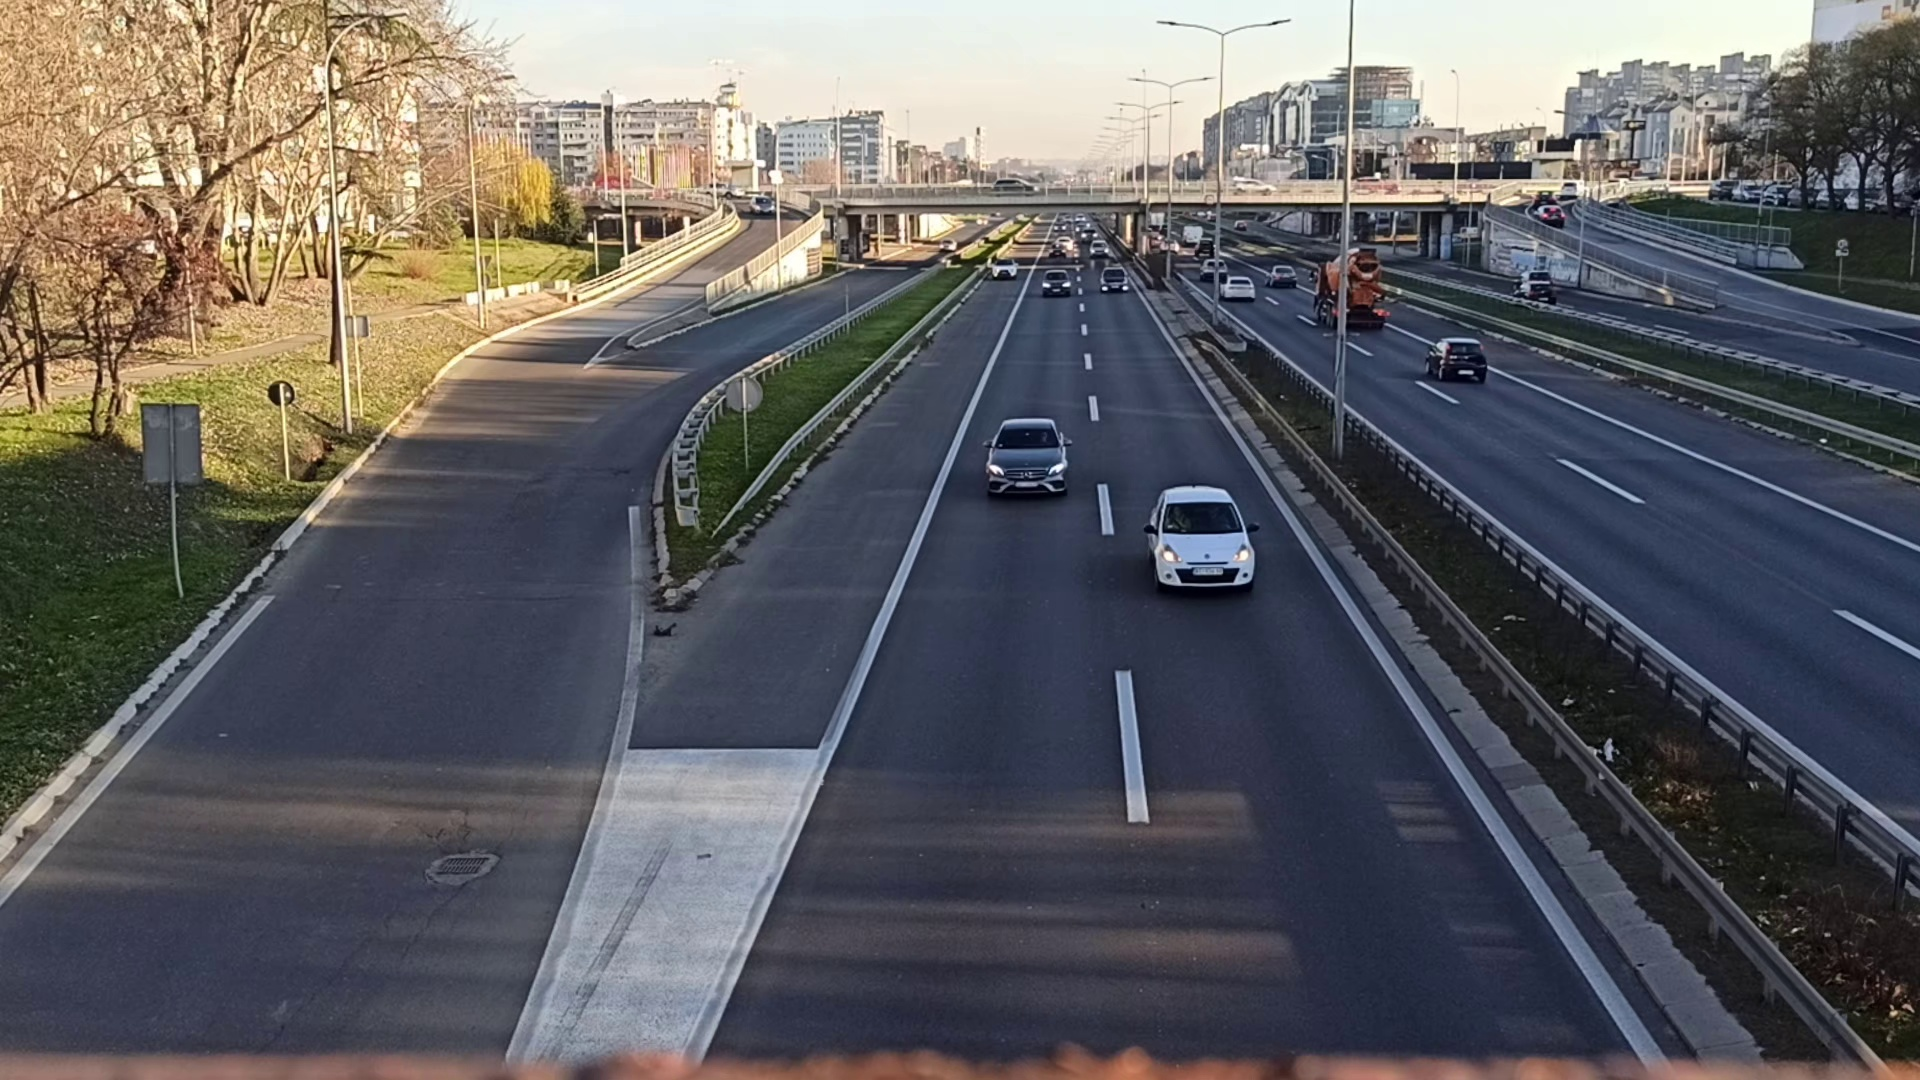car: (1142, 487, 1257, 593), (985, 414, 1072, 502), (1424, 339, 1487, 382)
truck: (1315, 249, 1390, 334)
